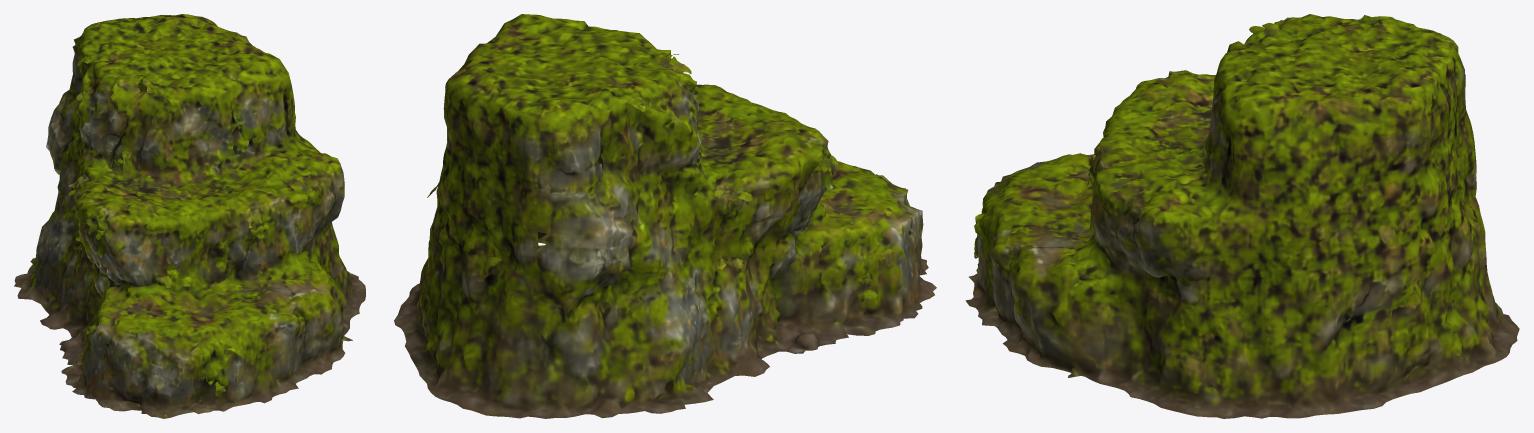
Rendered from swamp_2.glb.
3 views of the same model, side by side, from view 1: azimuth 30°, elevation 25°; view 2: azimuth 150°, elevation 25°; view 3: azimuth 270°, elevation 25° (orthographic). The views are drawn at different scales.
Parts seen in each view (by area): view 1: geometry_0; view 2: geometry_0; view 3: geometry_0.
Part boxes in pixels (x1,y1,x2,y2): geometry_0: [14, 14, 365, 418]; geometry_0: [394, 14, 936, 418]; geometry_0: [965, 14, 1519, 418].
Size of the model in its own units: 0.8115 by 0.5435 by 0.96.
Materials: 1 (1 with a texture image).
